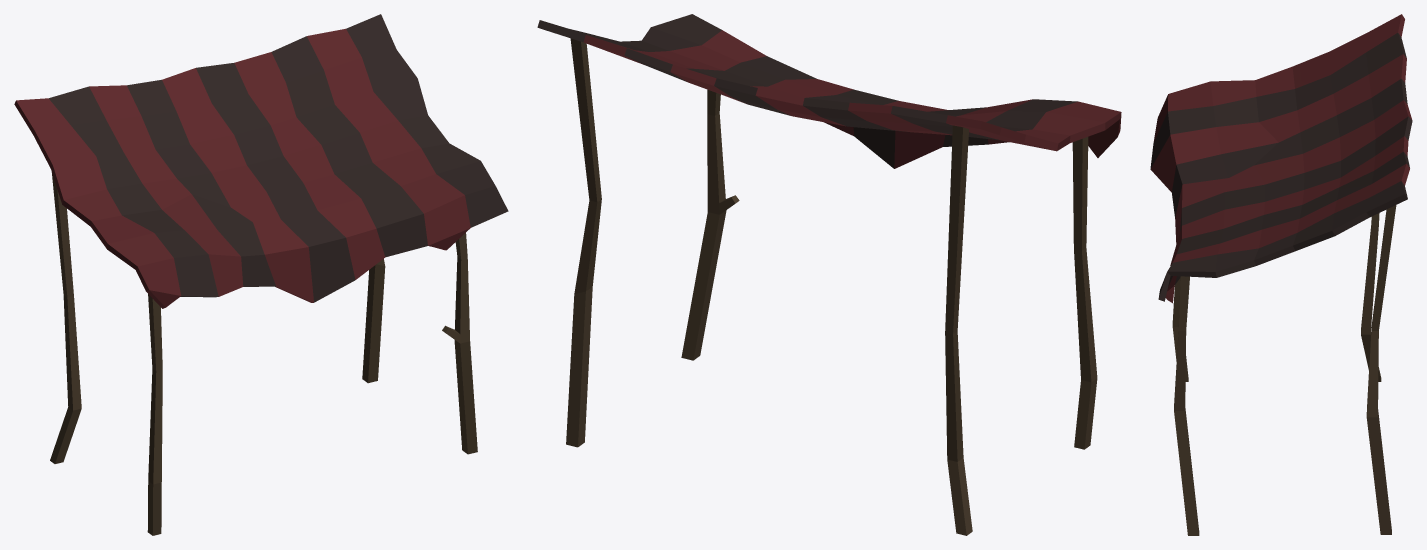
Rendered from SM_Prop_Stall_Cloth_02.glb.
3 views of the same model, side by side, from view 1: azimuth 30°, elevation 25°; view 2: azimuth 150°, elevation 25°; view 3: azimuth 270°, elevation 25° (orthographic). The views are drawn at different scales.
Visible parts, largest first — view 1: SM_Prop_Stall_Cloth_02; view 2: SM_Prop_Stall_Cloth_02; view 3: SM_Prop_Stall_Cloth_02.
Boxes of the visible parts, <box> form: SM_Prop_Stall_Cloth_02: <box>14,14,508,535</box>; SM_Prop_Stall_Cloth_02: <box>537,14,1121,535</box>; SM_Prop_Stall_Cloth_02: <box>1150,14,1412,535</box>.
Bounding box in the file's own units: 0.0373 × 0.0337 × 0.0227.
